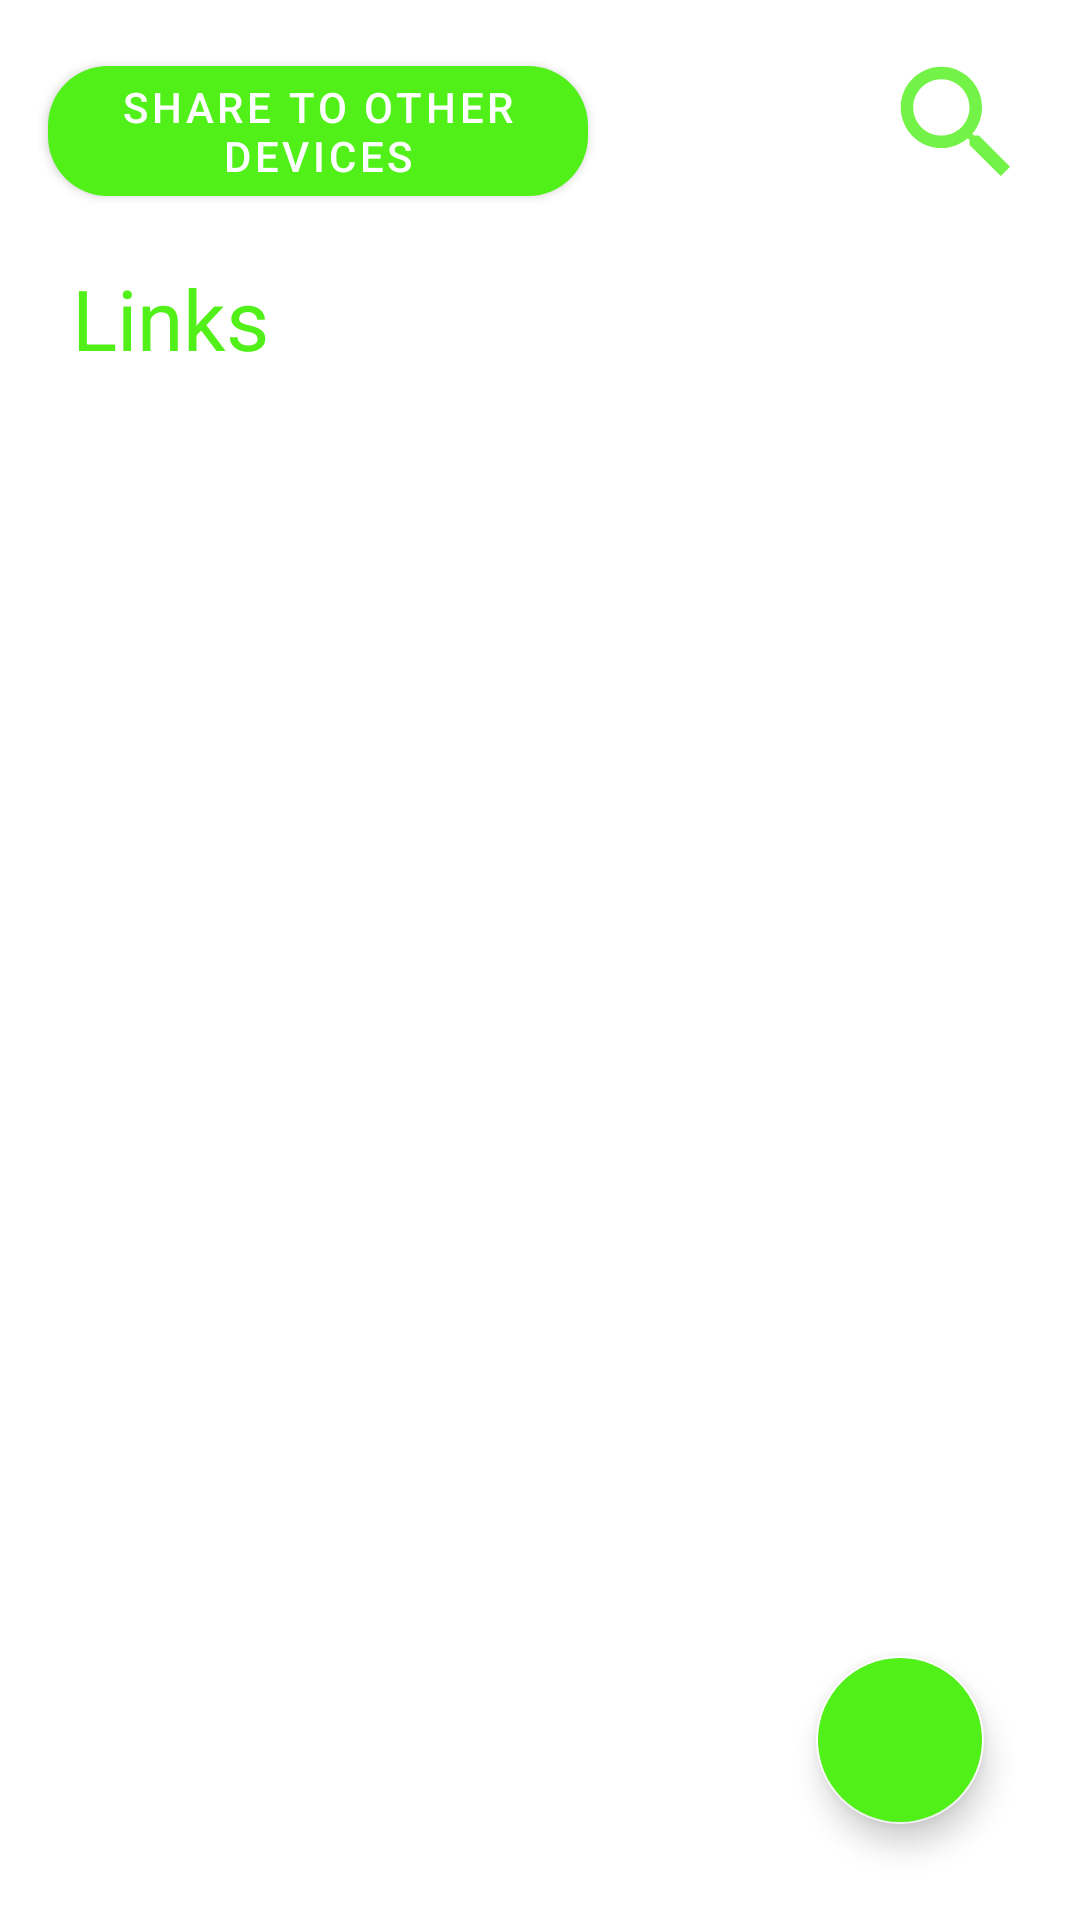

Locate icon controls on the screen. Image size 1080 × 1920, boxes as [x1=x1, y1=y1, x2=x2, y2=y2].
search: [x1=900, y1=66, x2=1010, y2=176]
